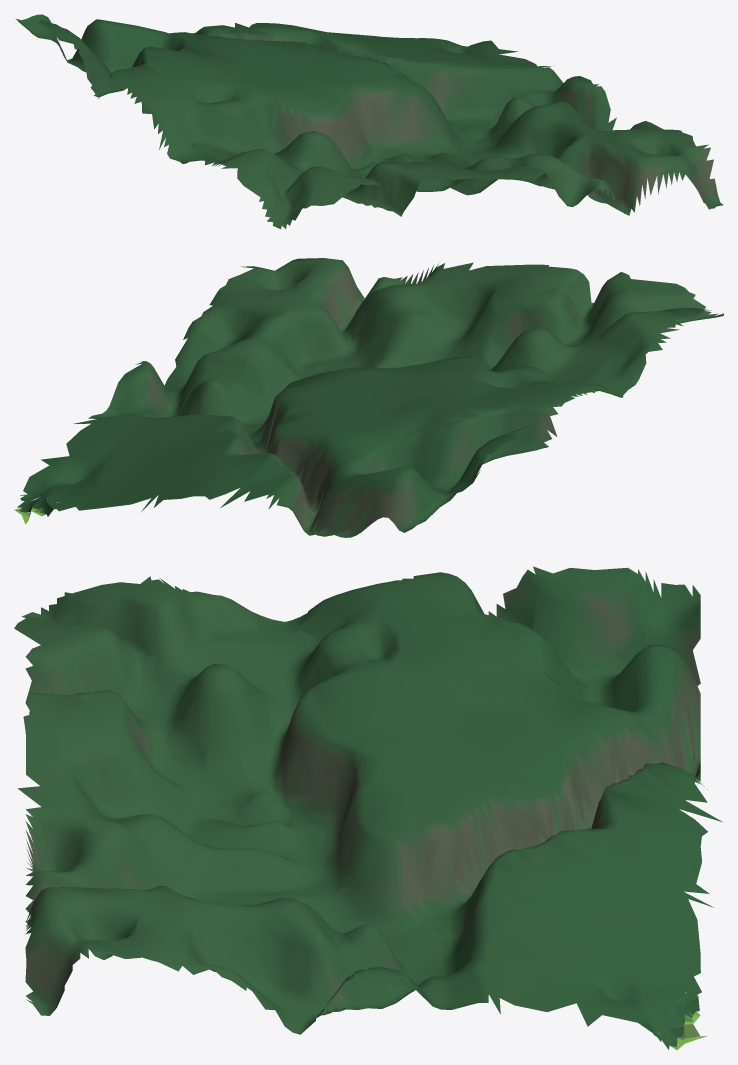
File: payo_land_xm2_y7_lod1.glb
3 renders of one model, top to bottom at view 1: azimuth 30°, elevation 25°; view 2: azimuth 150°, elevation 25°; view 3: azimuth 270°, elevation 25°, orthographic. The views are drawn at different scales.
Visible parts, largest first — view 1: payo_land_xm2_y7; view 2: payo_land_xm2_y7; view 3: payo_land_xm2_y7.
Boxes of the visible parts, x1,y1,x2,y2 form: payo_land_xm2_y7: [15, 14, 723, 229]; payo_land_xm2_y7: [14, 258, 723, 537]; payo_land_xm2_y7: [14, 566, 722, 1049].
Bounding box in the file's own units: 267 × 83.4 × 271.
